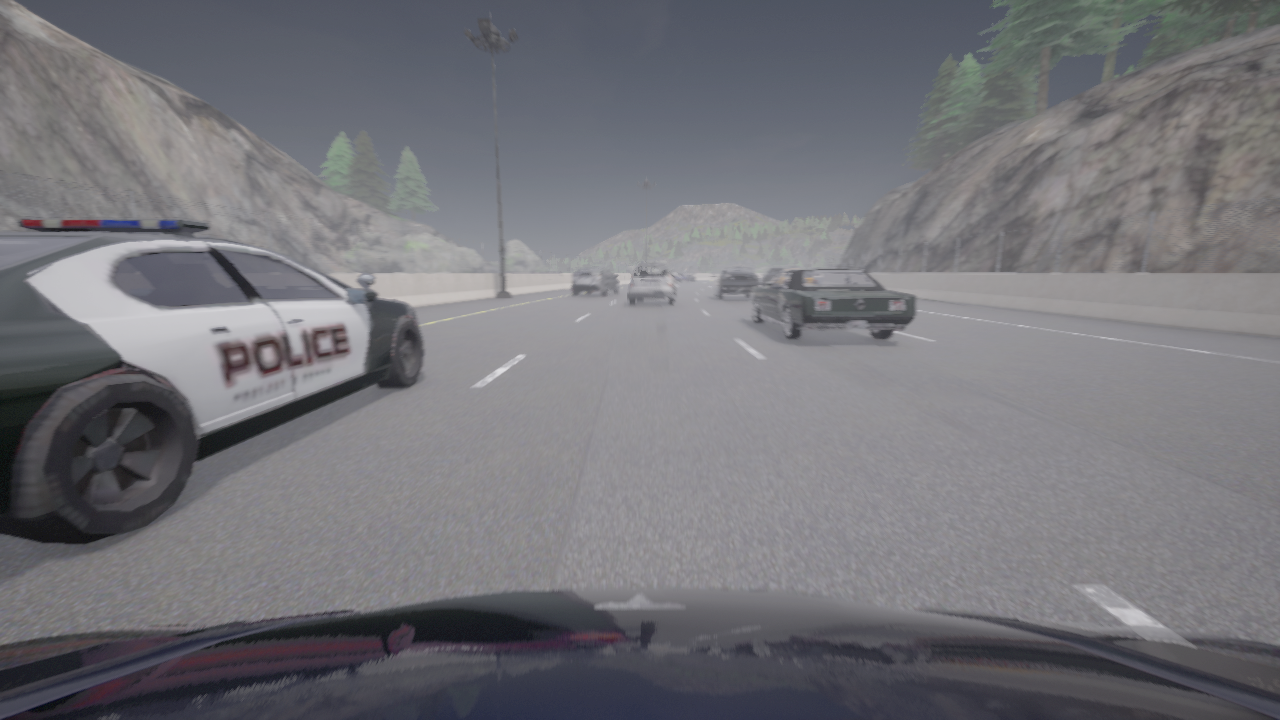cyclist: (0, 588, 1279, 719), (0, 219, 423, 544), (751, 268, 916, 340), (628, 263, 677, 305), (712, 266, 759, 300), (572, 267, 619, 295), (772, 266, 802, 282), (762, 267, 786, 287), (674, 271, 694, 283)
